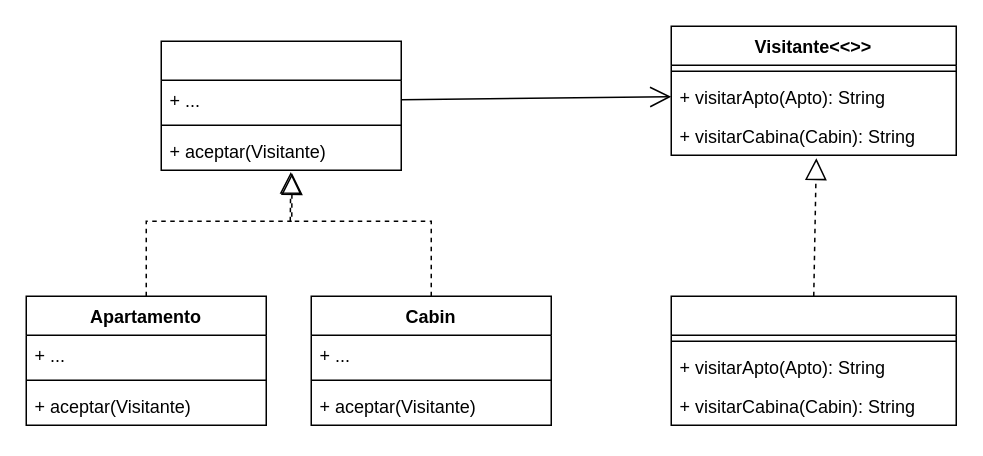
Image size: 983x456. Some labels were removed from this diagram. The box of each missing label's shape, as (x1, y1, x2, y2) in pixels:
Alojamiento<>: (160, 40, 401, 170)
VisitanteImpuestos: (670, 295, 956, 425)
